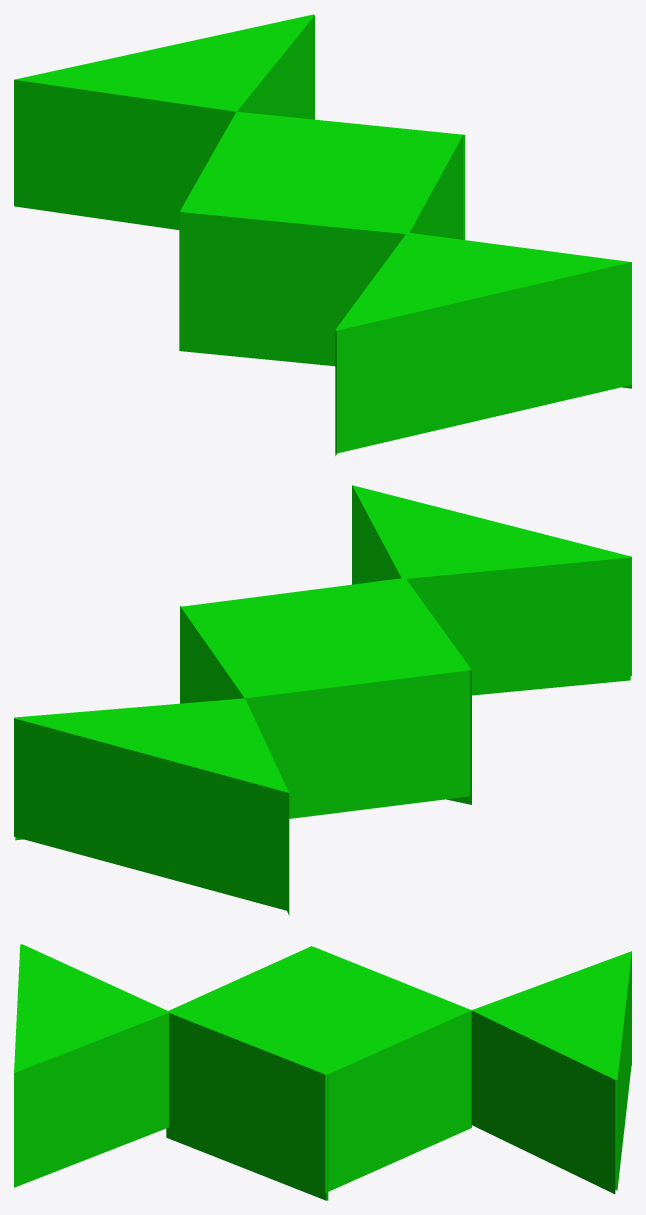
The model's file is Rune3NoStone.fbx.
3 renders of one model, top to bottom at view 1: azimuth 30°, elevation 25°; view 2: azimuth 150°, elevation 25°; view 3: azimuth 270°, elevation 25°, orthographic. The views are drawn at different scales.
Visible parts, largest first — view 1: Cube.003, Cube.006, Cube.004, Cube.005; view 2: Cube.006, Cube.005, Cube.003, Cube.004; view 3: Cube.004, Cube.006, Cube.003, Cube.005.
Boxes of the visible parts, x1,y1,x2,y2 form: Cube.003: (335,233,631,455); Cube.006: (14,14,314,229); Cube.004: (179,134,462,366); Cube.005: (180,111,465,239); Cube.006: (14,698,289,915); Cube.005: (180,606,470,818); Cube.003: (352,485,631,695); Cube.004: (180,578,471,804); Cube.004: (166,946,328,1200); Cube.006: (471,951,631,1193); Cube.003: (14,944,168,1187); Cube.005: (311,946,471,1192).
Size of the model in its own units: 90.5 by 39.15 by 174.
